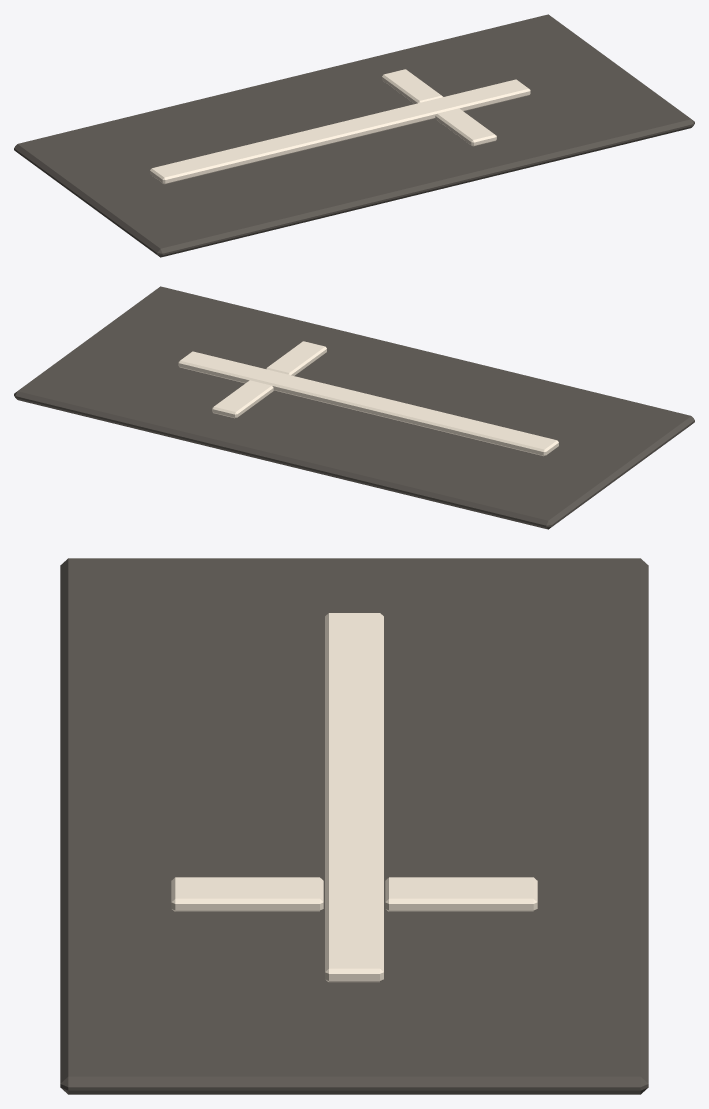
The model's file is SM_VKI_Overlay_TombSlab.fbx.
3 views of the same model, one above another, from view 1: azimuth 30°, elevation 25°; view 2: azimuth 150°, elevation 25°; view 3: azimuth 270°, elevation 25° (orthographic). The views are drawn at different scales.
Visible parts, largest first — view 1: SM_VKI_Overlay_TombSlab.001; view 2: SM_VKI_Overlay_TombSlab.001; view 3: SM_VKI_Overlay_TombSlab.001.
Part boxes in pixels (x1=…): SM_VKI_Overlay_TombSlab.001: x1=14, y1=14, x2=694, y2=257; SM_VKI_Overlay_TombSlab.001: x1=14, y1=286, x2=694, y2=529; SM_VKI_Overlay_TombSlab.001: x1=60, y1=558, x2=648, y2=1094.
Size of the model in its own units: 1.9 by 0.052 by 0.9.
